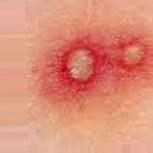Ants: (42, 31, 113, 100), (118, 37, 152, 78)
